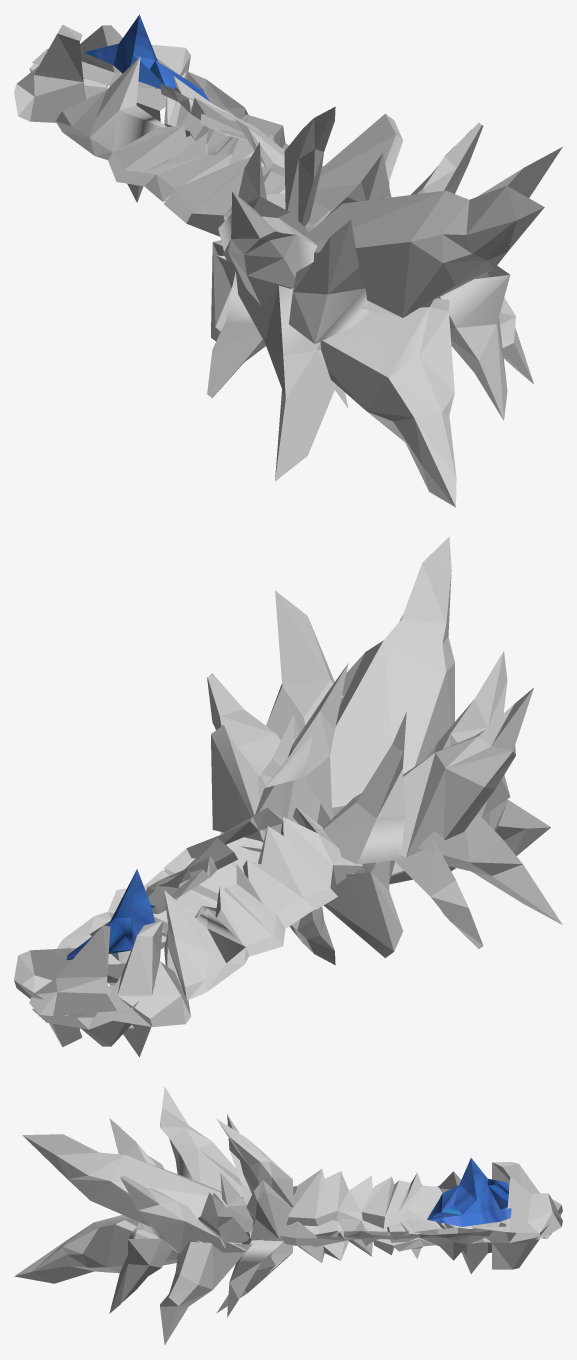
File: bingzhu.FBX
3 renders of one model, top to bottom at view 1: azimuth 30°, elevation 25°; view 2: azimuth 150°, elevation 25°; view 3: azimuth 270°, elevation 25°, orthographic. The views are drawn at different scales.
Visible parts, largest first — view 1: Object033; view 2: Object033; view 3: Object033.
Boxes of the visible parts, x1,y1,x2,y2 form: Object033: [14, 14, 562, 507]; Object033: [14, 537, 562, 1057]; Object033: [14, 1087, 562, 1344].
Size of the model in its own units: 374 by 362 by 940.
